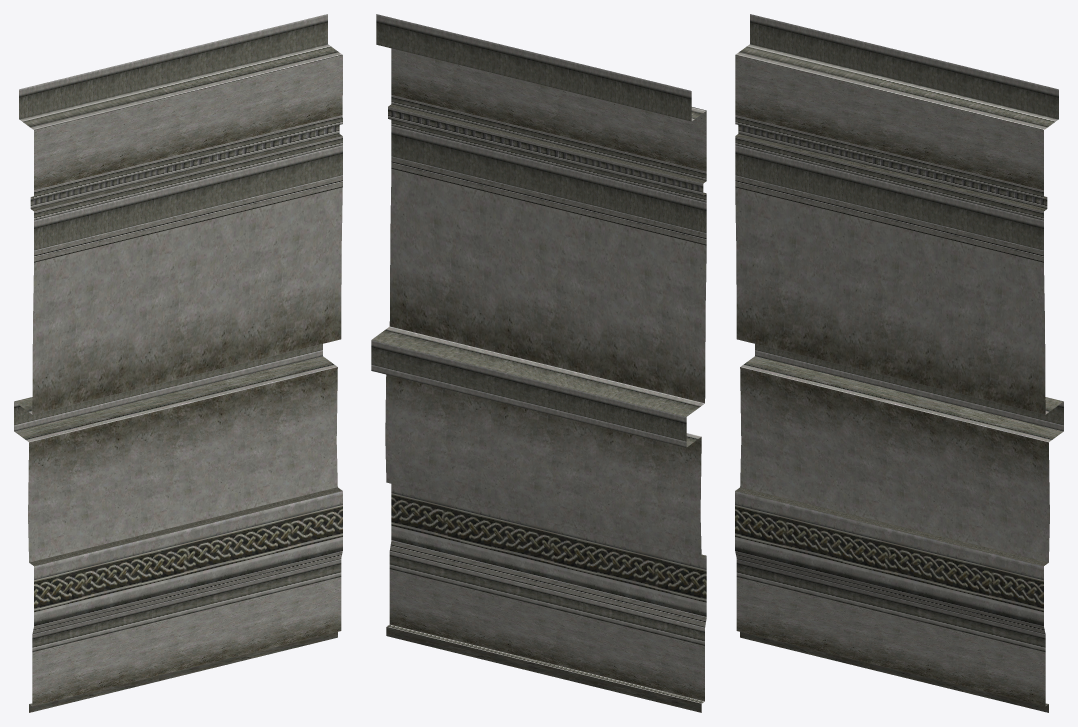
Rendered from DWARF_PALACE_WATER_ROOM_WALL01C02.fbx.
3 renders of one model, left to right at view 1: azimuth 30°, elevation 25°; view 2: azimuth 150°, elevation 25°; view 3: azimuth 330°, elevation 25°, orthographic. The views are drawn at different scales.
Visible parts, largest first — view 1: DWARF_PALACE_WATER_ROOM_WALL01C02; view 2: DWARF_PALACE_WATER_ROOM_WALL01C02; view 3: DWARF_PALACE_WATER_ROOM_WALL01C02.
Boxes of the visible parts, x1,y1,x2,y2 form: DWARF_PALACE_WATER_ROOM_WALL01C02: (14,14,342,712); DWARF_PALACE_WATER_ROOM_WALL01C02: (371,14,706,712); DWARF_PALACE_WATER_ROOM_WALL01C02: (735,14,1063,712).
Size of the model in its own units: 107467 by 205000 by 12001.
Materials: 7 (7 with a texture image).
